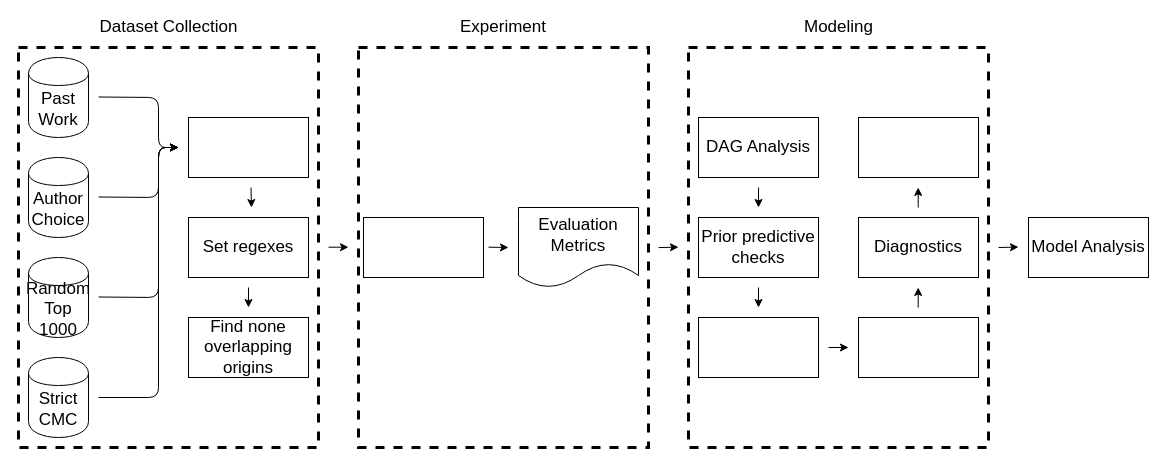
Some shapes in this 1166 by 466 pixel diagram are drawn without their labels. The shapes that lost their labels are listed below. From the top down, each one's centre as x and y in pixels, then its label:
At point (248, 147): "Review commit message quality".
At point (918, 147): "PSIS LOO comparison".
At point (423, 247): "Run Bugspots and Linespots on projects".
At point (758, 347): "Sampling".
At point (918, 347): "Posterior predictive checks".
